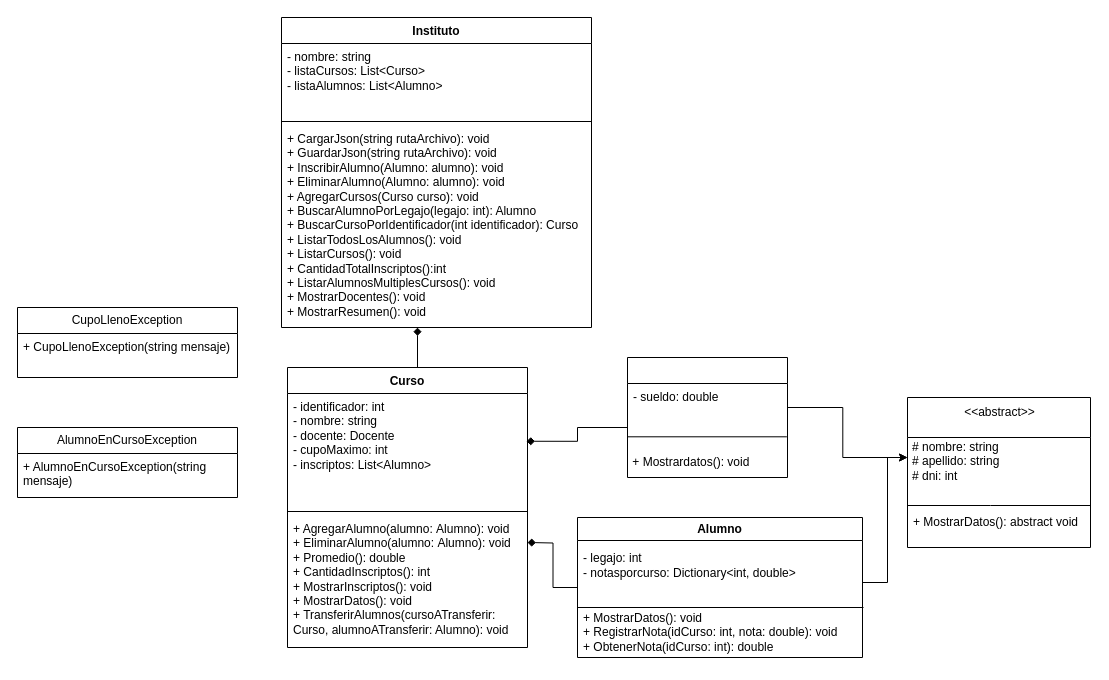
Image size: 1109x680. Some labels were removed from this diagram. Here are the shapes that lost their labels. From the top down, the box of each, then its label:
(626, 356, 788, 478): Docente
(906, 396, 1090, 548): Persona
